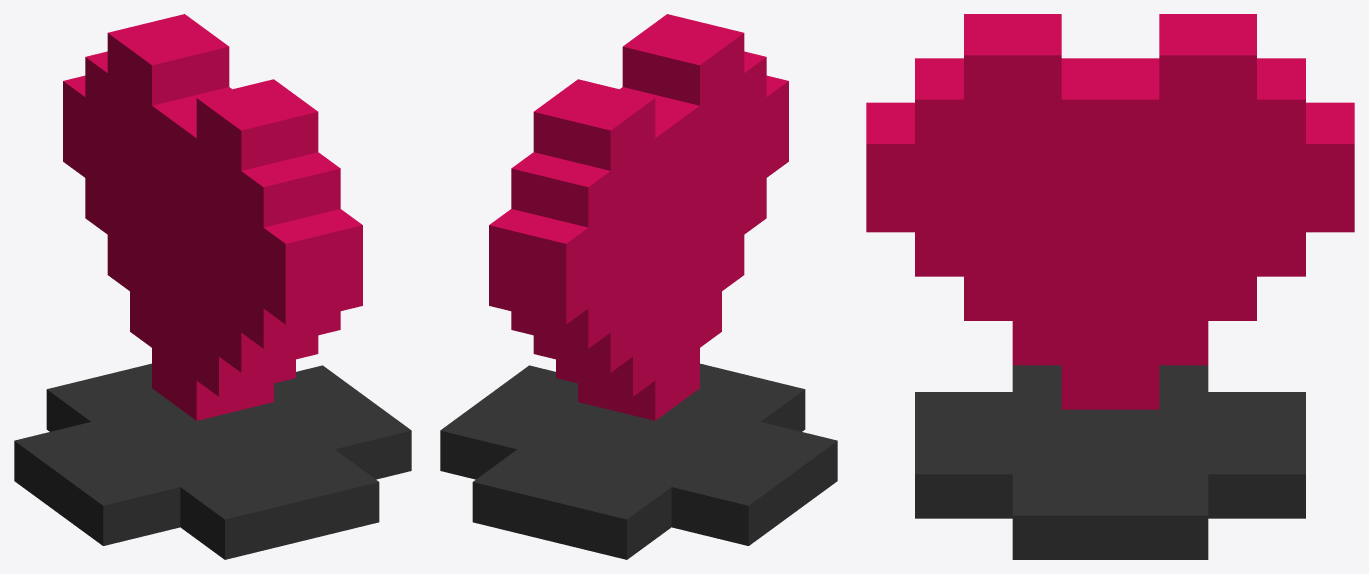
The model's file is HpUp_Top.dae.
3 renders of one model, left to right at view 1: azimuth 30°, elevation 25°; view 2: azimuth 150°, elevation 25°; view 3: azimuth 270°, elevation 25°, orthographic. The views are drawn at different scales.
Visible parts, largest first — view 1: Matrix_3; view 2: Matrix_3; view 3: Matrix_3.
Boxes of the visible parts, x1,y1,x2,y2 form: Matrix_3: (14, 14, 411, 559); Matrix_3: (440, 14, 837, 559); Matrix_3: (866, 14, 1354, 559).
Size of the model in its own units: 8 by 10 by 10.
